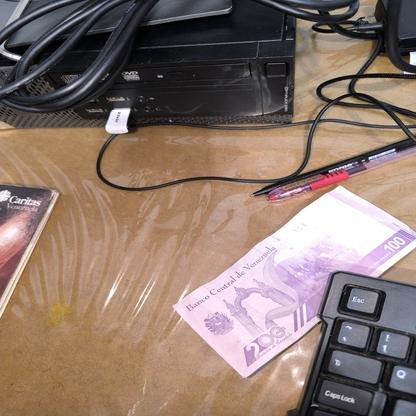one_hundred-back-vef: (172, 184, 416, 378)
